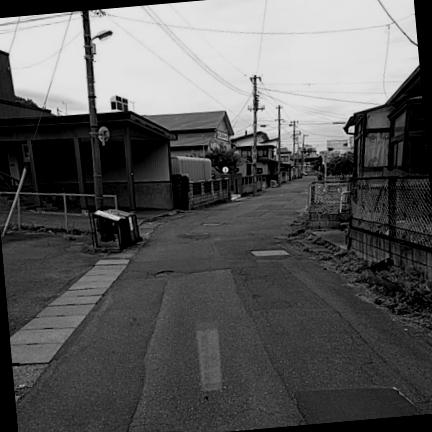Road: (16, 180, 431, 431)
